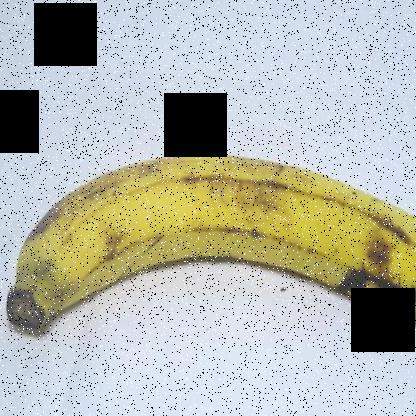ripe: (9, 149, 415, 377)
